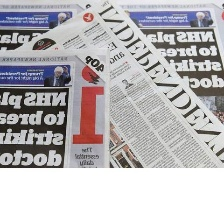news_paper: (0, 0, 224, 169), (0, 45, 112, 170)
